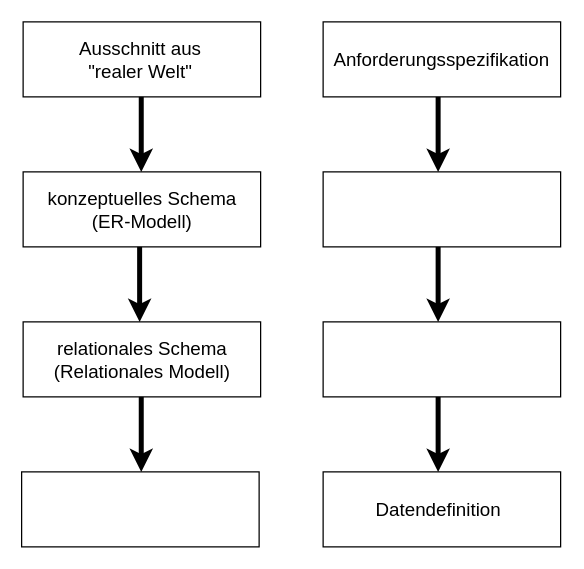
The diagram is 584 pixels wide and 569 high, and some of its shapes have lost their labels. The centre of each missing label's shape, as x and y in pixels:
Datenbeschreibungs- sprache (SQL): (x=139, y=509)
Konzeptioneller Entwurf: (x=441, y=209)
Logischer Entwurf bzw. Implementationsentwurf: (x=441, y=359)
